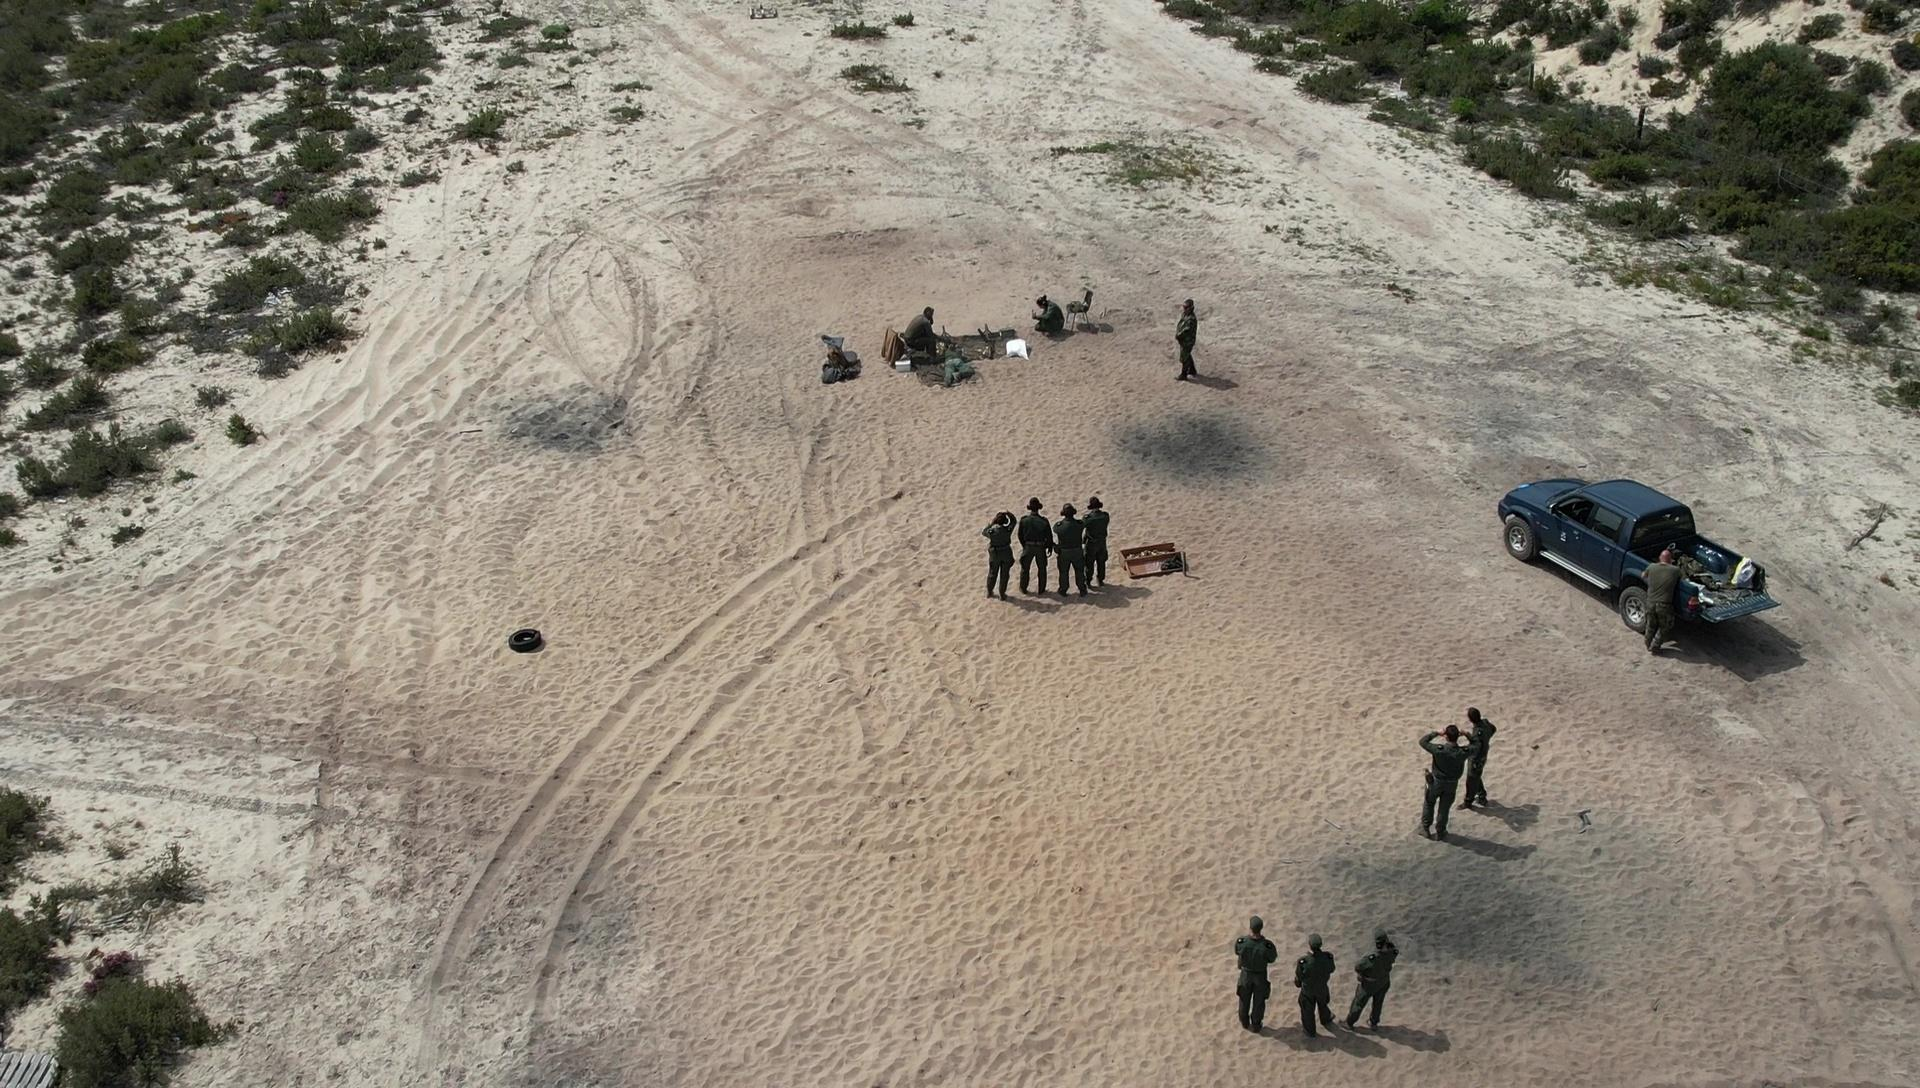Soldier: (1338, 914, 1414, 1048), (1630, 537, 1691, 677), (1283, 919, 1342, 1044), (1412, 715, 1466, 845), (1226, 905, 1279, 1037), (1006, 488, 1056, 611), (1458, 698, 1505, 822), (1084, 481, 1127, 607), (1054, 497, 1098, 607), (976, 502, 1018, 608), (1163, 295, 1211, 382), (897, 293, 953, 365), (1029, 281, 1080, 357), (936, 334, 982, 394)
